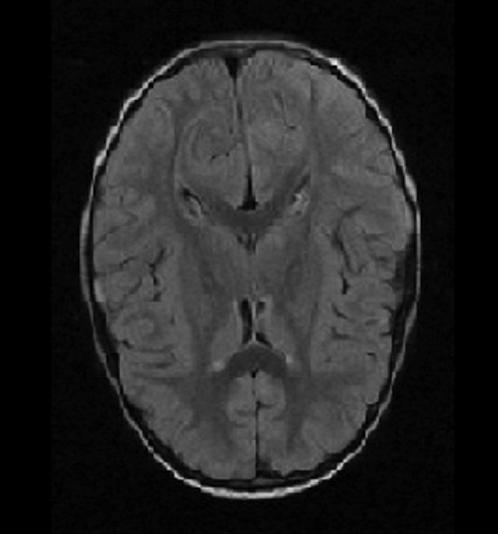Normal_Brain: (40, 1, 498, 534)
